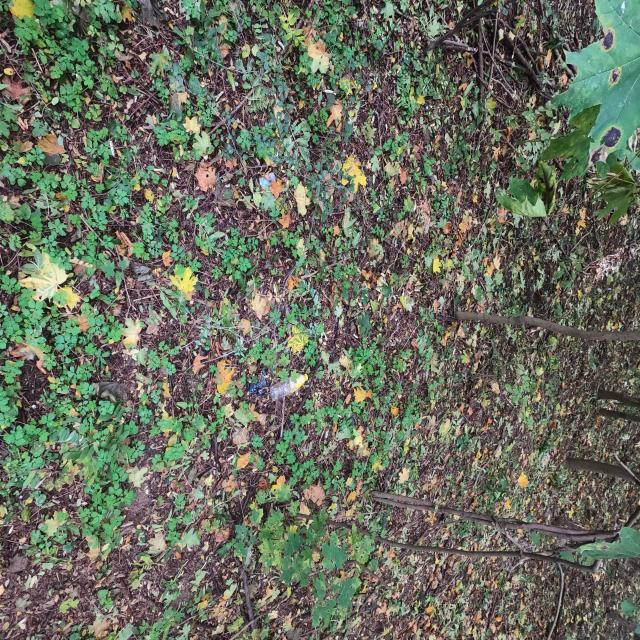rubbish: (332, 238, 371, 268), (370, 241, 394, 273), (484, 358, 509, 381), (364, 454, 382, 467)
